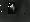person: (9, 3, 16, 15)
